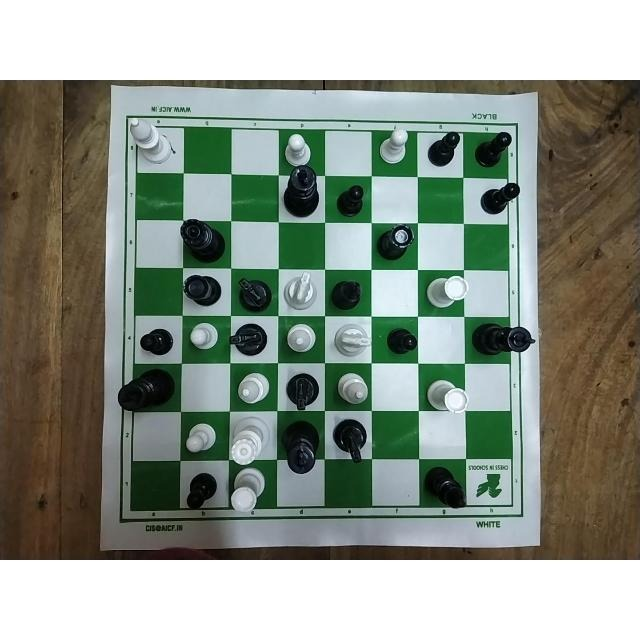black-bishop: (424, 465, 468, 510), (326, 277, 363, 310)
black-king: (117, 368, 174, 411), (280, 420, 320, 476), (472, 323, 536, 355), (283, 165, 319, 217)
black-knight: (329, 417, 370, 463), (229, 320, 271, 356), (284, 371, 320, 411), (235, 275, 271, 313)
black-pawn: (474, 131, 511, 167), (479, 181, 518, 214), (426, 131, 459, 167), (185, 472, 218, 508), (335, 184, 366, 216), (138, 328, 174, 354), (385, 327, 417, 355)
black-queen: (177, 216, 227, 264)
black-rook: (375, 222, 416, 261), (180, 272, 221, 307)
white-bishop: (128, 116, 172, 163), (234, 370, 270, 406), (332, 371, 369, 404), (286, 321, 314, 355)
white-knight: (282, 271, 318, 313), (332, 322, 370, 360)
white-pawn: (377, 128, 411, 164), (182, 419, 217, 453), (188, 319, 222, 352), (284, 135, 313, 166)
white-queen: (230, 414, 272, 463)
white-rook: (424, 274, 470, 310), (230, 467, 266, 511), (425, 377, 469, 412)
